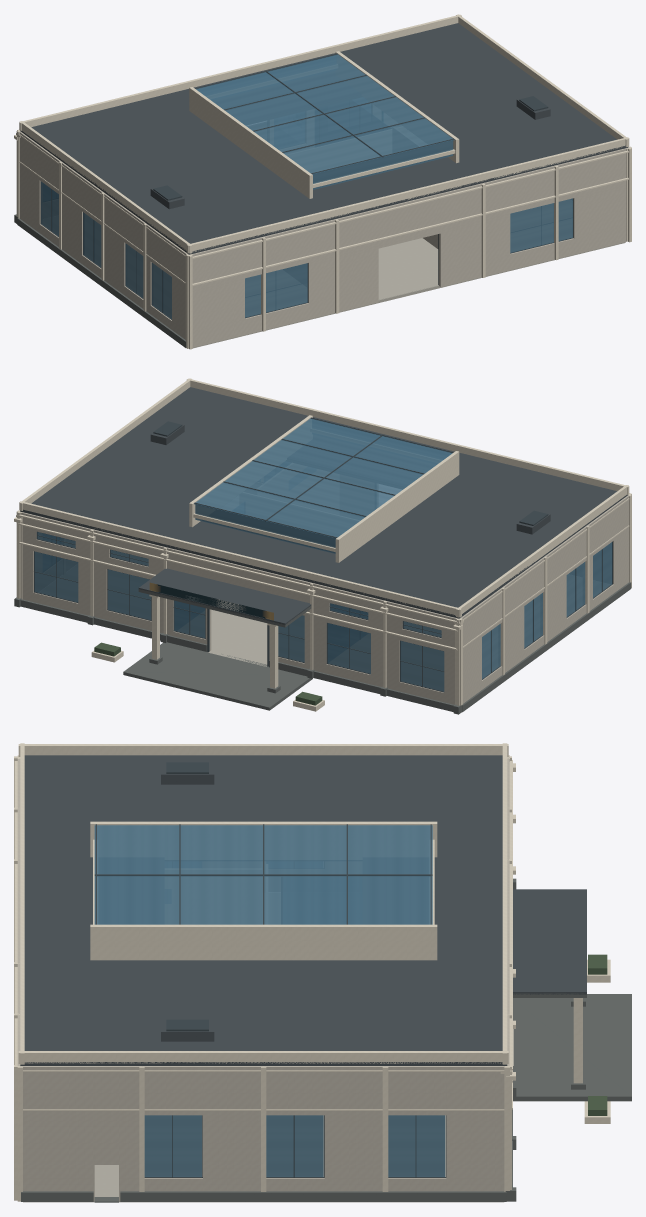
3 renders of one model, top to bottom at view 1: azimuth 30°, elevation 25°; view 2: azimuth 150°, elevation 25°; view 3: azimuth 270°, elevation 25°, orthographic. The views are drawn at different scales.
Visible parts, largest first — view 1: Shell_VIS_Rear_Stone_Masonry, Roof_VIS_Roof_West, Roof_VIS_Roof_East, Roof_VIS_Skylight_Top, Roof_VIS_Roof_Edge_Parapet, Shell_VIS_West_Wall, Roof_VIS_Clerestory_Rim, Roof_VIS_Roof_Rear, Gallery_VIS_Gallery_Passage_Floor, Shell_VIS_Rear_Pilaster, Shell_VIS_Rear_Cornice, Shell_VIS_Rear_Window_2_Glass (+13 smaller); view 2: Roof_VIS_Roof_West, Roof_VIS_Roof_East, Front_VIS_Front_Stone_Masonry, Roof_VIS_Skylight_Top, Roof_VIS_Roof_Edge_Parapet, Shell_VIS_West_Wall, Entry_VIS_Exterior_Approach, Roof_VIS_Clerestory_Rim, Roof_VIS_Roof_Front, Front_VIS_Horizontal_String_Course, Front_VIS_Canopy_Deck, Front_VIS_Carved_Stone_Plinth (+23 smaller); view 3: Shell_VIS_East_Wall, Roof_VIS_Roof_East, Roof_VIS_Roof_West, Roof_VIS_Skylight_Top, Roof_VIS_Clerestory_Rim, Roof_VIS_Roof_Edge_Parapet, Entry_VIS_Exterior_Approach, Front_VIS_Canopy_Deck, Roof_VIS_Roof_Rear, Roof_VIS_Roof_Front, Shell_VIS_Side_Stone_Plinth, Shell_VIS_Side_Pilaster (+15 smaller).
Part boxes in pixels (<box>): Shell_VIS_Rear_Stone_Masonry: <box>192,148,628,347</box>; Roof_VIS_Roof_West: <box>20,94,335,254</box>; Roof_VIS_Roof_East: <box>315,23,628,183</box>; Roof_VIS_Skylight_Top: <box>196,54,454,174</box>; Roof_VIS_Roof_Edge_Parapet: <box>19,14,629,253</box>; Shell_VIS_West_Wall: <box>19,131,188,339</box>; Roof_VIS_Clerestory_Rim: <box>189,51,459,198</box>; Roof_VIS_Roof_Rear: <box>312,157,481,218</box>; Gallery_VIS_Gallery_Passage_Floor: <box>378,238,438,299</box>; Shell_VIS_Rear_Pilaster: <box>188,148,631,349</box>; Shell_VIS_Rear_Cornice: <box>192,150,628,285</box>; Shell_VIS_Rear_Window_2_Glass: <box>510,198,572,252</box>; Roof_VIS_Roof_West: <box>313,458,627,618</box>; Roof_VIS_Roof_East: <box>20,387,333,547</box>; Front_VIS_Front_Stone_Masonry: <box>21,512,458,704</box>; Roof_VIS_Skylight_Top: <box>194,418,452,538</box>; Roof_VIS_Roof_Edge_Parapet: <box>19,378,629,617</box>; Shell_VIS_West_Wall: <box>460,495,629,703</box>; Entry_VIS_Exterior_Approach: <box>123,642,312,710</box>; Roof_VIS_Clerestory_Rim: <box>189,415,459,562</box>; Roof_VIS_Roof_Front: <box>166,521,336,582</box>; Front_VIS_Horizontal_String_Course: <box>18,514,457,650</box>; Front_VIS_Canopy_Deck: <box>138,568,311,624</box>; Front_VIS_Carved_Stone_Plinth: <box>20,599,454,711</box>; Shell_VIS_East_Wall: <box>20,1066,504,1200</box>; Roof_VIS_Roof_East: <box>20,959,507,1065</box>; Roof_VIS_Roof_West: <box>24,755,502,856</box>; Roof_VIS_Skylight_Top: <box>94,825,432,924</box>; Roof_VIS_Clerestory_Rim: <box>90,821,437,960</box>; Roof_VIS_Roof_Edge_Parapet: <box>18,743,508,1064</box>; Entry_VIS_Exterior_Approach: <box>513,994,631,1101</box>; Front_VIS_Canopy_Deck: <box>513,889,586,994</box>; Roof_VIS_Roof_Rear: <box>24,856,92,959</box>; Roof_VIS_Roof_Front: <box>434,856,502,959</box>; Shell_VIS_Side_Stone_Plinth: <box>21,1191,506,1201</box>; Shell_VIS_Side_Pilaster: <box>17,755,509,1201</box>.
Bounding box in the file's own units: 48.77 × 12.72 × 40.61.
11 materials, 11 textured.
